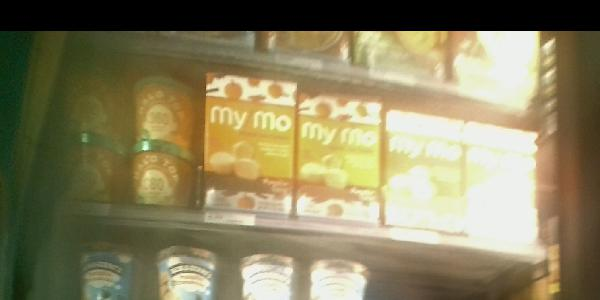icecream: (207, 75, 298, 217), (300, 93, 385, 223), (385, 109, 468, 238), (469, 125, 541, 244)
